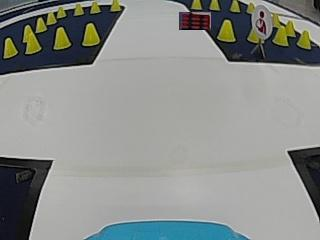cone: (52, 27, 71, 50), (82, 22, 100, 46), (23, 27, 40, 52), (217, 19, 235, 42), (3, 37, 18, 57), (297, 29, 311, 49), (274, 26, 288, 45), (35, 16, 47, 32), (109, 0, 121, 12), (90, 1, 101, 14), (73, 3, 84, 15), (229, 0, 240, 12), (46, 11, 56, 24), (190, 0, 202, 10), (56, 6, 66, 18), (209, 0, 220, 10), (245, 2, 255, 13)
patient: (254, 4, 271, 37)
